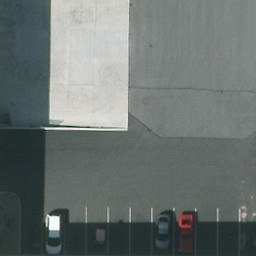car: (155, 216, 173, 253), (44, 215, 62, 252), (176, 215, 194, 252)
